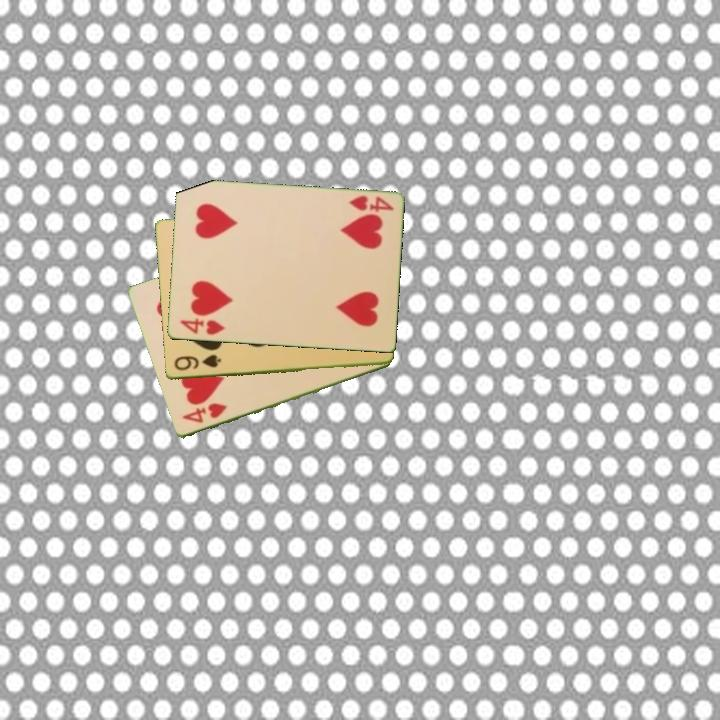4h: (178, 400, 230, 426), (176, 315, 228, 338), (345, 192, 396, 215)
9s: (170, 351, 224, 374)
